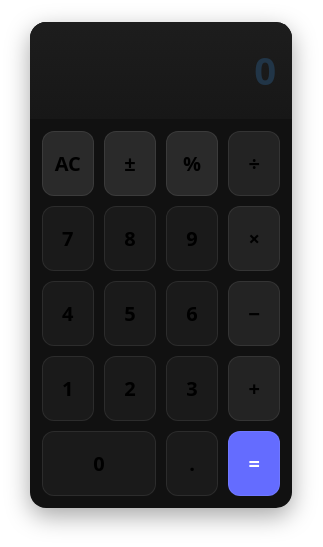
Test: toggle sign
Step 1. Click the button "9" → x=192, y=239, box [166,206,218,271]
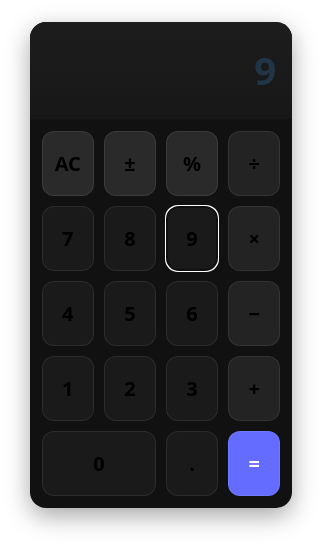
Step 2. Click the button "±" → x=130, y=164, box [104,131,156,196]
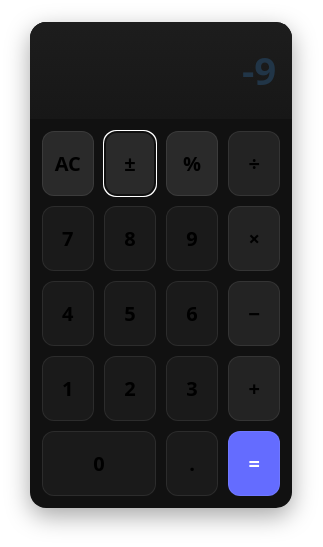
Result: the text named "display" reads "-9" at [242,44,276,96]
